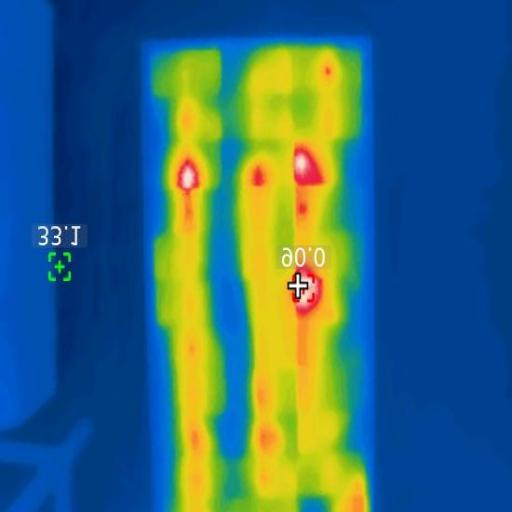hotspot: (290, 146, 327, 190), (293, 270, 323, 315), (177, 160, 202, 198), (251, 167, 269, 189)
